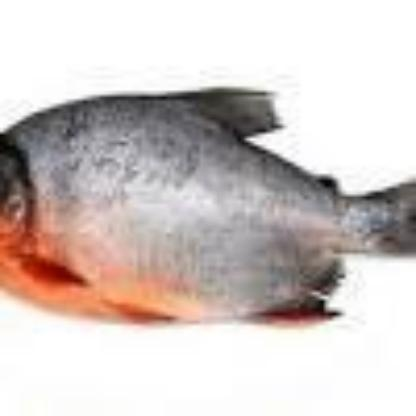ikan-pacu: (0, 91, 390, 319)
